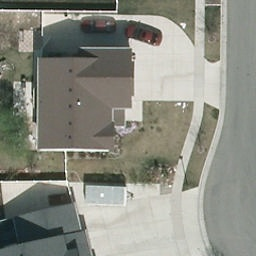car: (125, 24, 162, 48), (79, 19, 116, 33)
